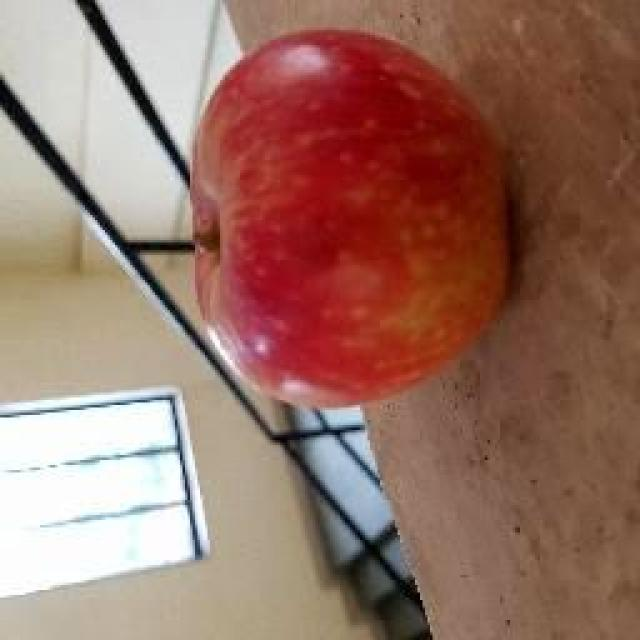Good_Apple: (188, 28, 515, 412)
